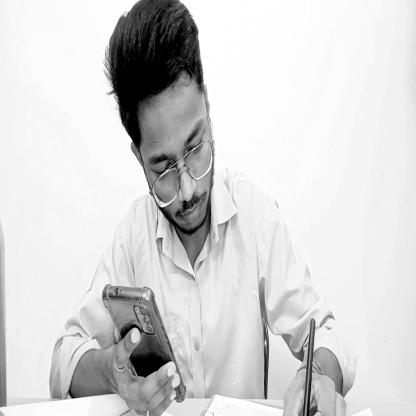Distracted: (107, 0, 217, 239)
